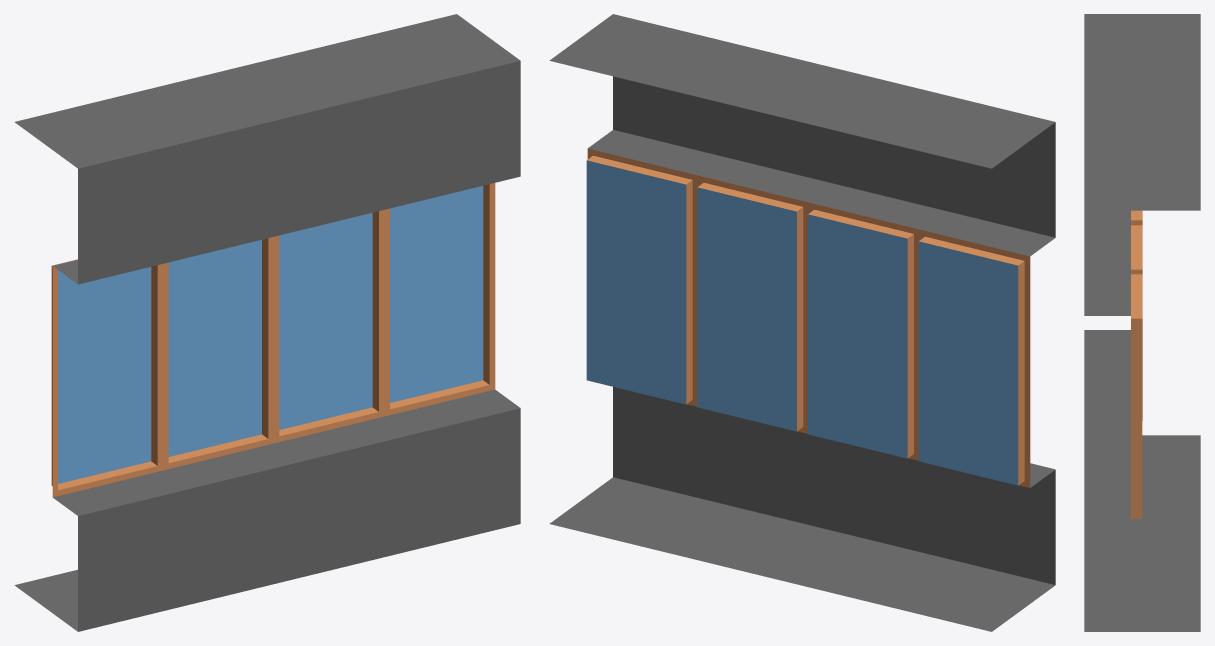
Rendered from factory_wall_window.fbx.
The picture shows the model from 3 angles, left to right: view 1: azimuth 30°, elevation 25°; view 2: azimuth 150°, elevation 25°; view 3: azimuth 270°, elevation 25°; orthographic projection. The views are drawn at different scales.
Parts seen in each view (by area): view 1: factory_wall_window; view 2: factory_wall_window; view 3: factory_wall_window.
Part boxes in pixels (x1,y1,x2,y2): factory_wall_window: (14, 14, 520, 631); factory_wall_window: (549, 14, 1055, 631); factory_wall_window: (1084, 14, 1200, 631).
Bounding box in the file's own units: 400 × 400 × 100.
